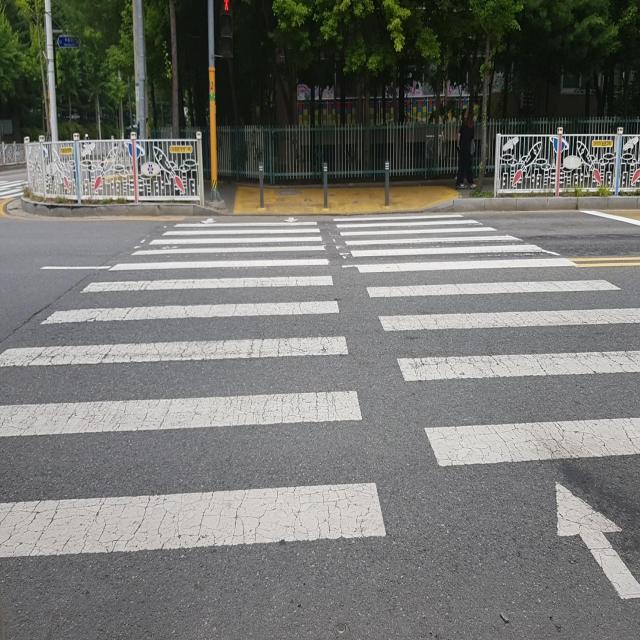빨간불: (220, 0, 236, 57)
횡단보도: (0, 211, 640, 640)
